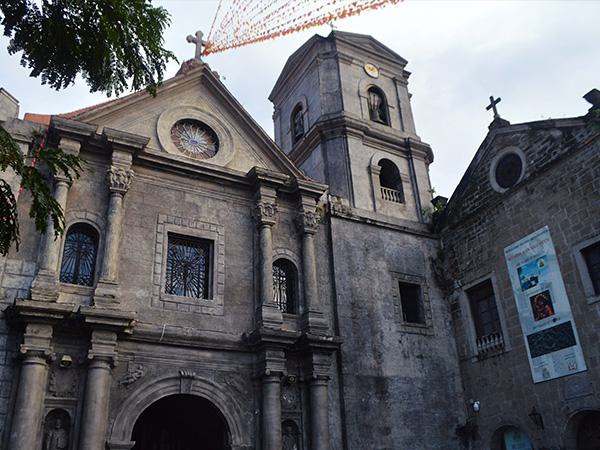san_agustin_church_intramuros_manila: (44, 1, 467, 450)
